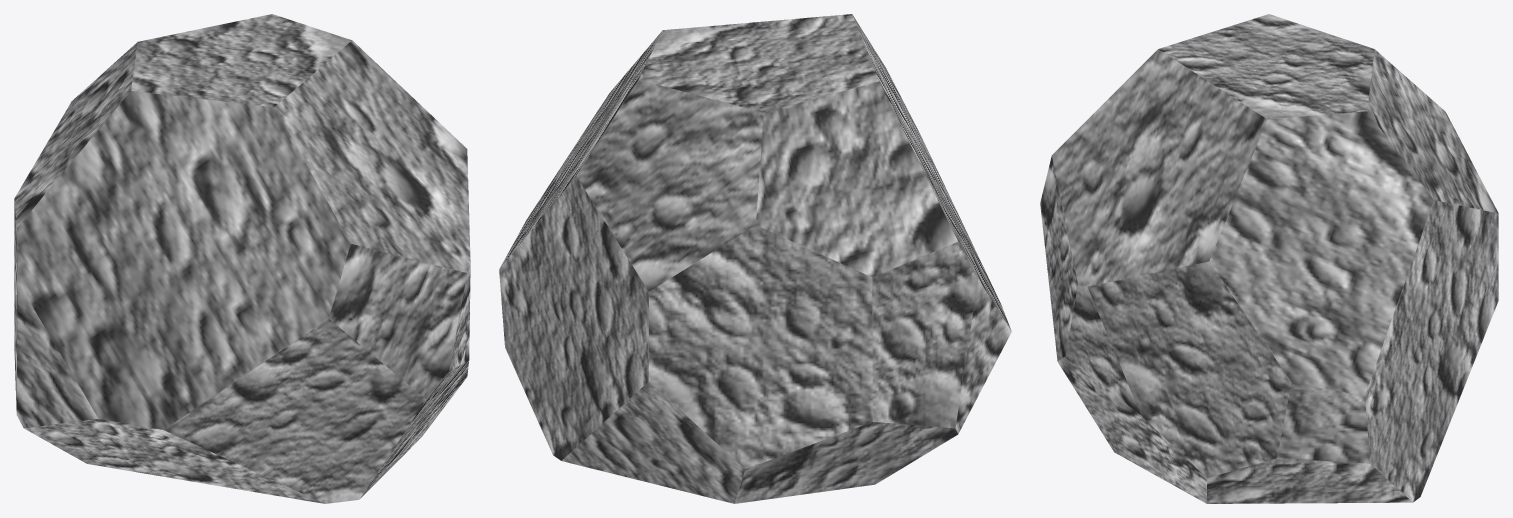
The model's file is asteroid2.glb.
3 renders of one model, left to right at view 1: azimuth 30°, elevation 25°; view 2: azimuth 150°, elevation 25°; view 3: azimuth 270°, elevation 25°, orthographic. The views are drawn at different scales.
Parts seen in each view (by area): view 1: Cube.005; view 2: Cube.005; view 3: Cube.005.
Part boxes in pixels (box(x1,y1,x2,y2)): Cube.005: box(14, 14, 470, 503); Cube.005: box(499, 14, 1011, 503); Cube.005: box(1040, 14, 1498, 503).
Size of the model in its own units: 2.3 by 1.9 by 2.11.
1 material, 1 textured.
